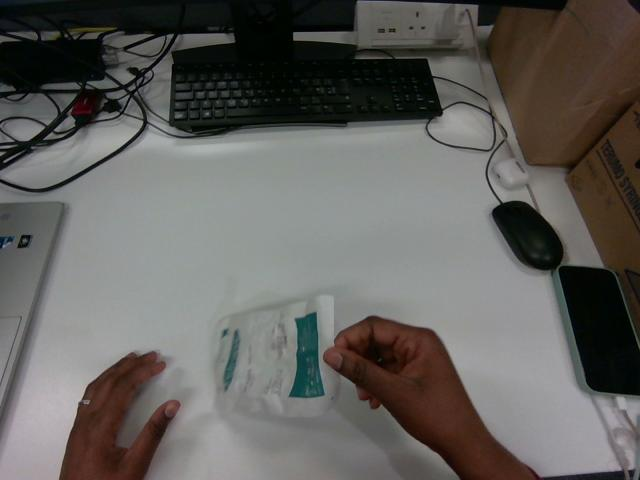gallipot: (215, 295, 339, 416)
